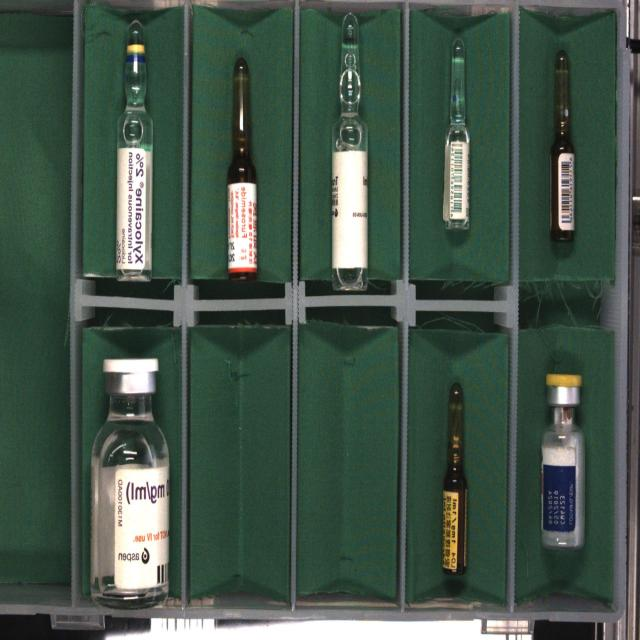Vials: (91, 358, 170, 607), (542, 373, 585, 548)
